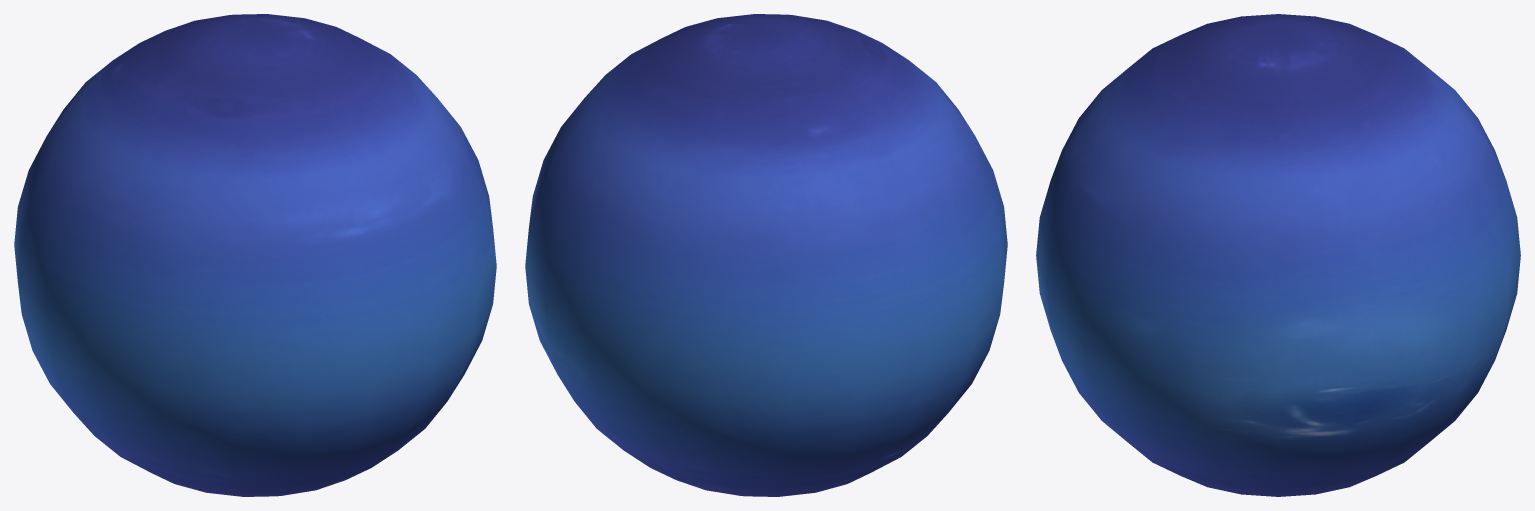
The model's file is neptuno.glb.
3 renders of one model, left to right at view 1: azimuth 30°, elevation 25°; view 2: azimuth 150°, elevation 25°; view 3: azimuth 270°, elevation 25°, orthographic.
Parts seen in each view (by area): view 1: Neptuno; view 2: Neptuno; view 3: Neptuno.
Part boxes in pixels (bbox=[...]): Neptuno: bbox=[14, 14, 496, 496]; Neptuno: bbox=[525, 14, 1007, 496]; Neptuno: bbox=[1036, 14, 1520, 496].
Size of the model in its own units: 2 by 2 by 2.
Materials: 1 (1 with a texture image).
